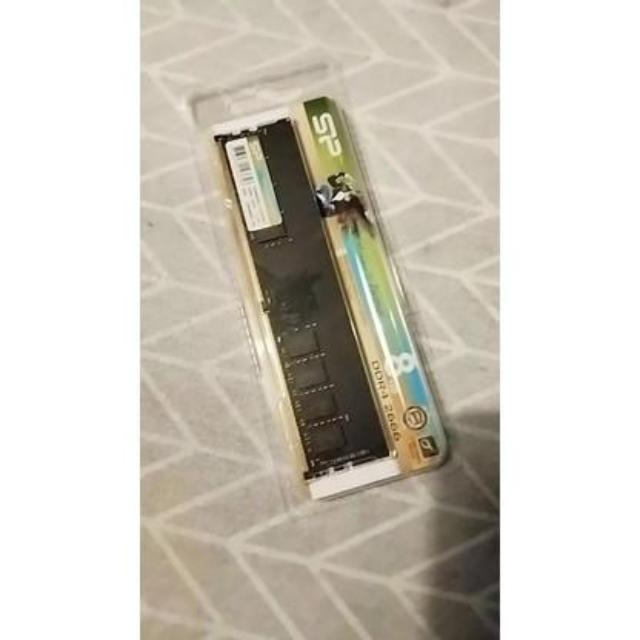RAM: (210, 102, 415, 496)
